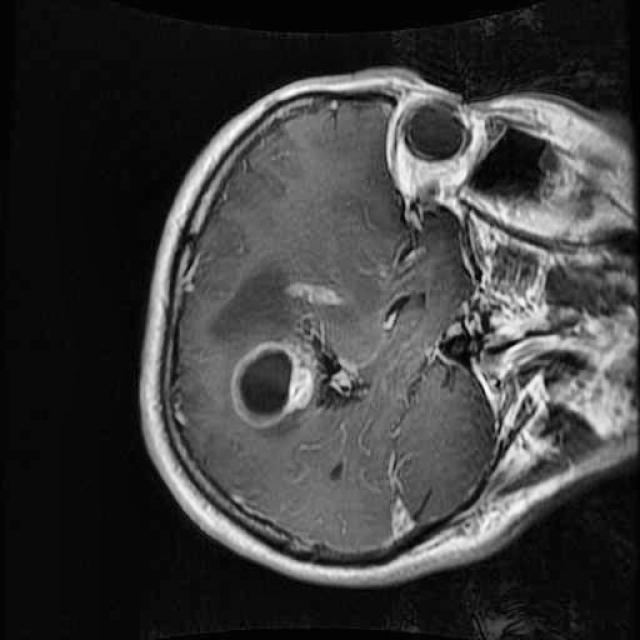Tumor: (211, 251, 378, 441)
